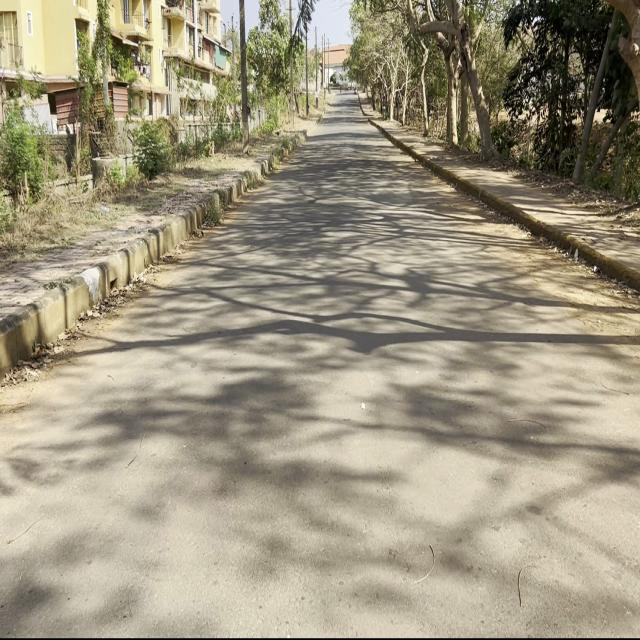Road: (4, 97, 635, 631)
